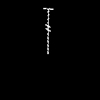treble_crochet: (44, 8, 52, 52)
